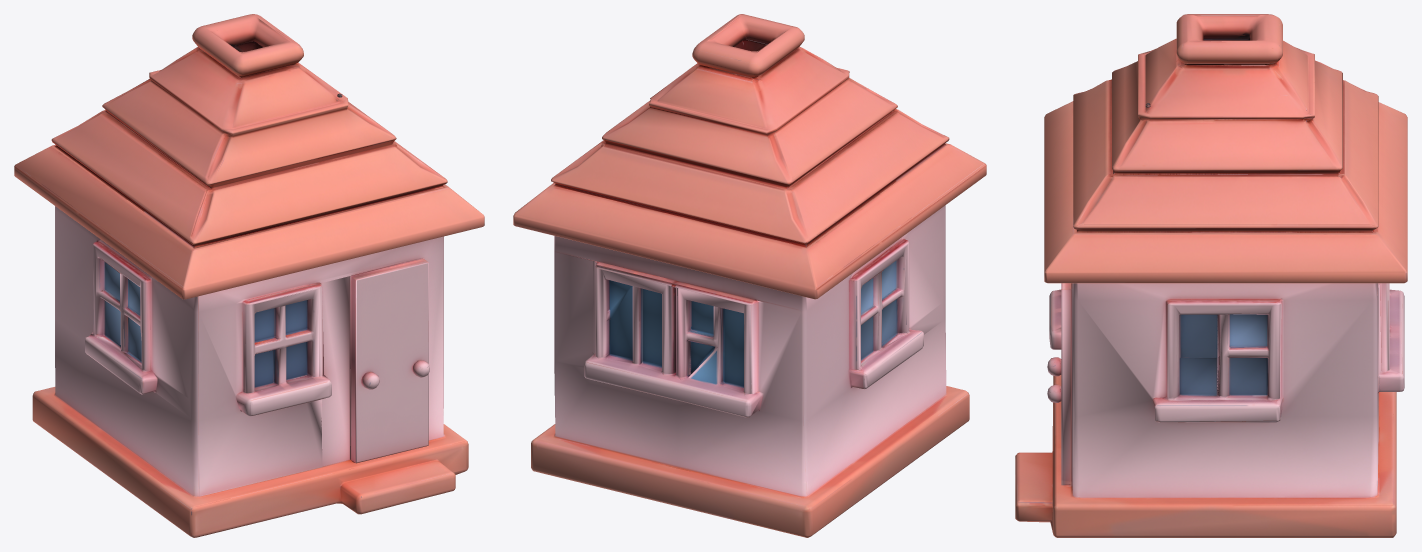
File: cottage.glb
3 renders of one model, left to right at view 1: azimuth 30°, elevation 25°; view 2: azimuth 150°, elevation 25°; view 3: azimuth 270°, elevation 25°, orthographic. The views are drawn at different scales.
Bounding box in the file's own units: 1.54 × 2 × 1.62.
1 material, 1 textured.
